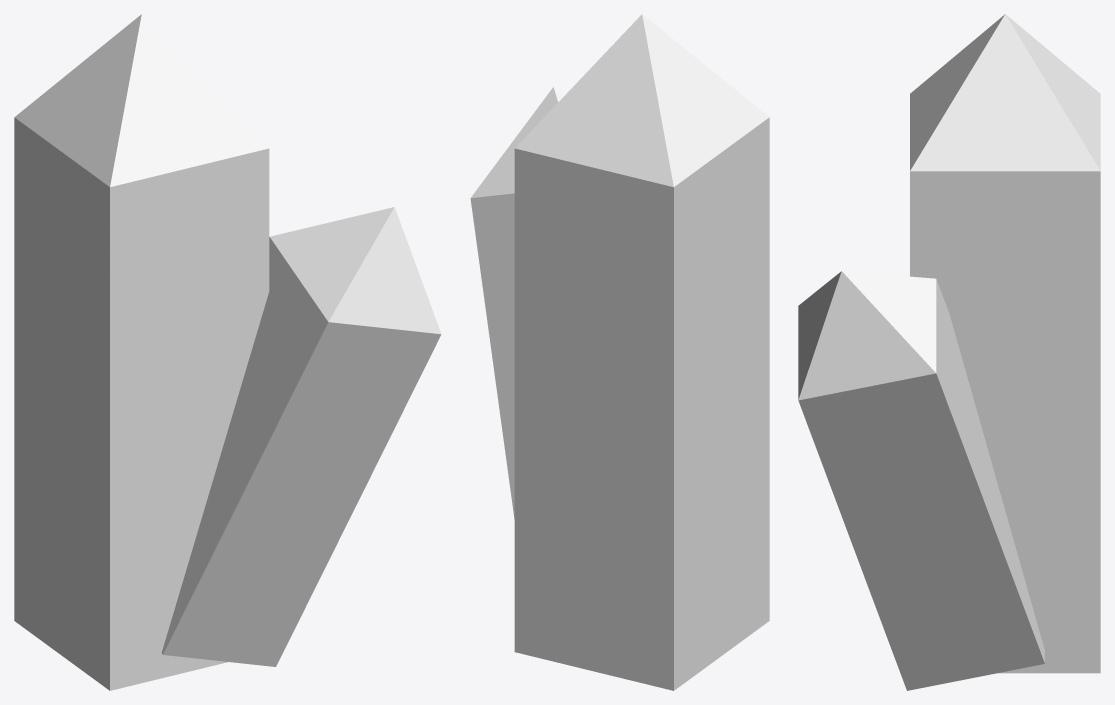
Rendered from crystalshard_2.obj.
3 renders of one model, left to right at view 1: azimuth 30°, elevation 25°; view 2: azimuth 150°, elevation 25°; view 3: azimuth 270°, elevation 25°, orthographic.
Parts seen in each view (by area): view 1: Crystal_Cube.000, Crystal_Cube.001; view 2: Crystal_Cube.000, Crystal_Cube.001; view 3: Crystal_Cube.000, Crystal_Cube.001.
Boxes of the visible parts, left/top/right/bottom form: Crystal_Cube.000: left=14, top=14, right=269, bottom=690; Crystal_Cube.001: left=161, top=207, right=441, bottom=666; Crystal_Cube.000: left=514, top=14, right=769, bottom=690; Crystal_Cube.001: left=470, top=87, right=564, bottom=519; Crystal_Cube.000: left=910, top=14, right=1100, bottom=673; Crystal_Cube.001: left=798, top=271, right=1044, bottom=690.
Size of the model in its own units: 0.4349 by 0.9272 by 0.3996.
